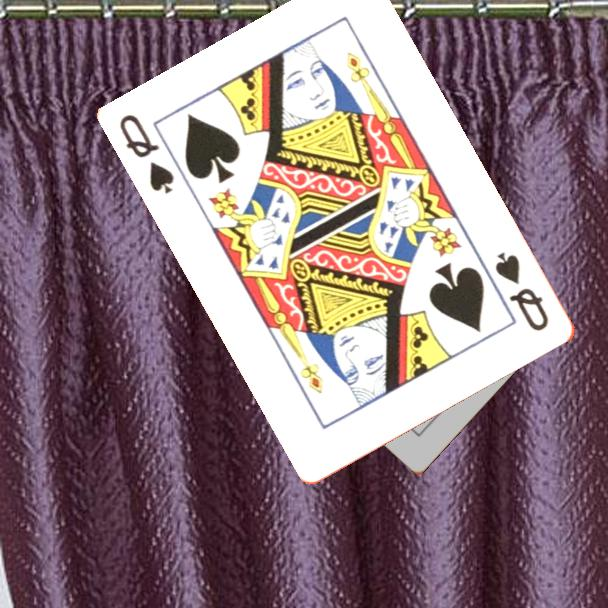s12: (116, 111, 178, 198), (492, 248, 553, 335)
